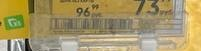1d: (50, 17, 133, 31)
